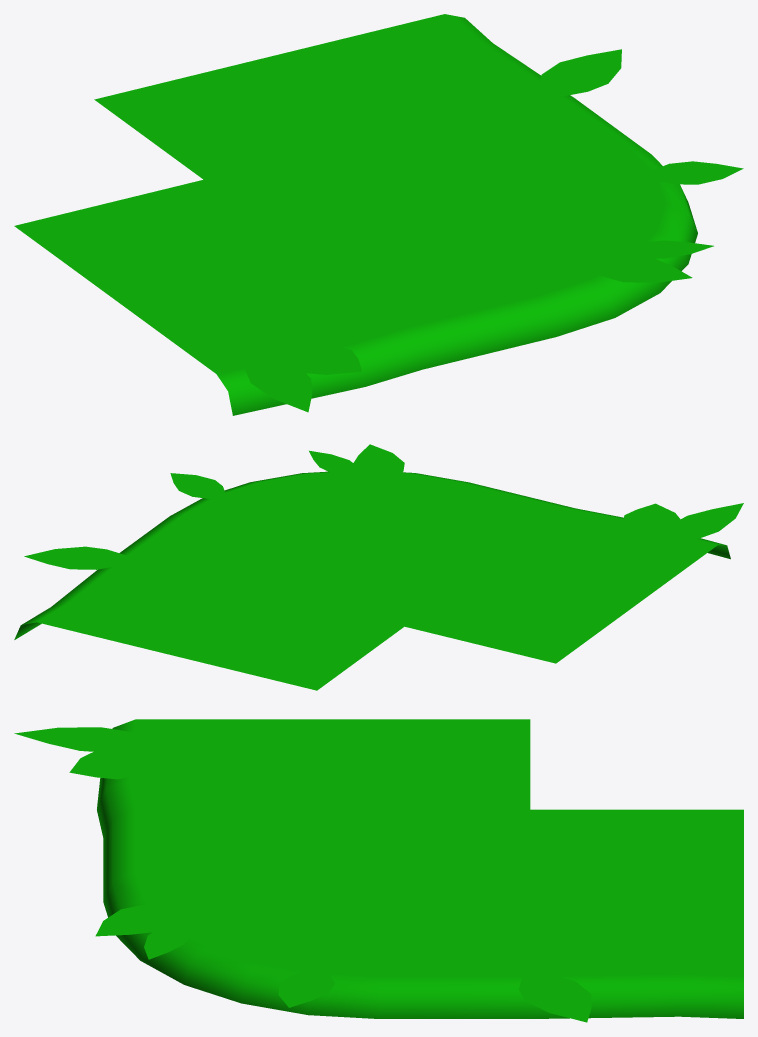
3 renders of one model, top to bottom at view 1: azimuth 30°, elevation 25°; view 2: azimuth 150°, elevation 25°; view 3: azimuth 270°, elevation 25°, orthographic. The views are drawn at different scales.
Visible parts, largest first — view 1: Plane.006; view 2: Plane.006; view 3: Plane.006.
Part boxes in pixels (left/top/right/bottom): Plane.006: left=14, top=14, right=743, bottom=415; Plane.006: left=14, top=444, right=743, bottom=690; Plane.006: left=14, top=719, right=743, bottom=1022.
Bounding box in the file's own units: 3.36 × 0.1501 × 3.42.
